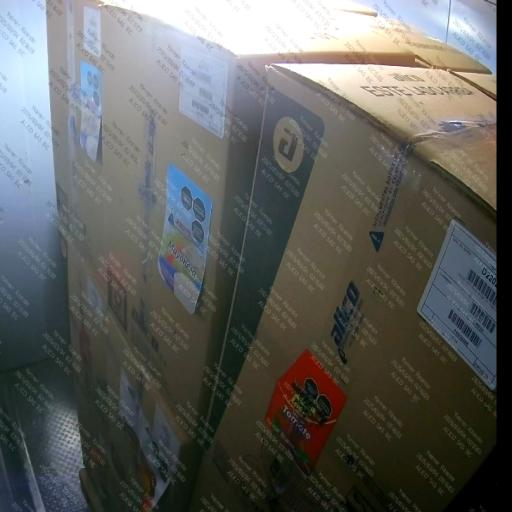Caja no amarrada: (90, 14, 476, 494)
